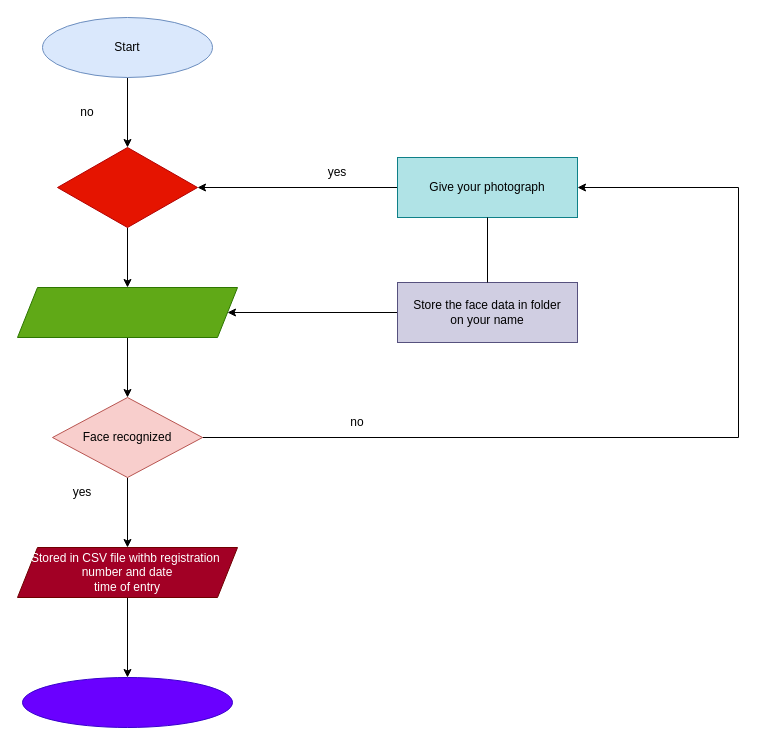
Some shapes in this 764 by 745 pixel diagram are drawn without their labels. The centre of each missing label's shape, as x and y in pixels:
"End" belongs at pixel 127 702.
"New user?" belongs at pixel 127 187.
"Recognize the face" belongs at pixel 127 312.
